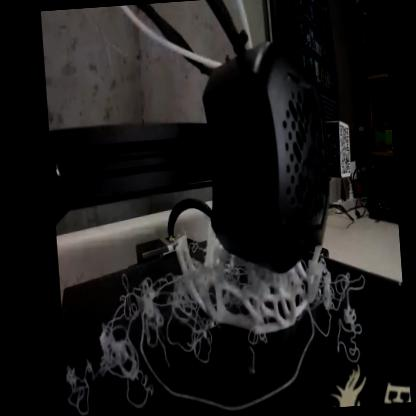fail: (58, 247, 375, 416)
